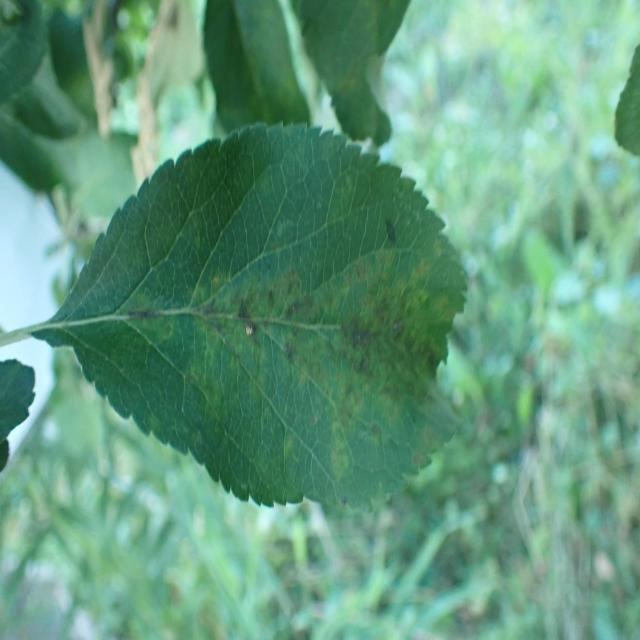scab: (127, 206, 454, 472)
